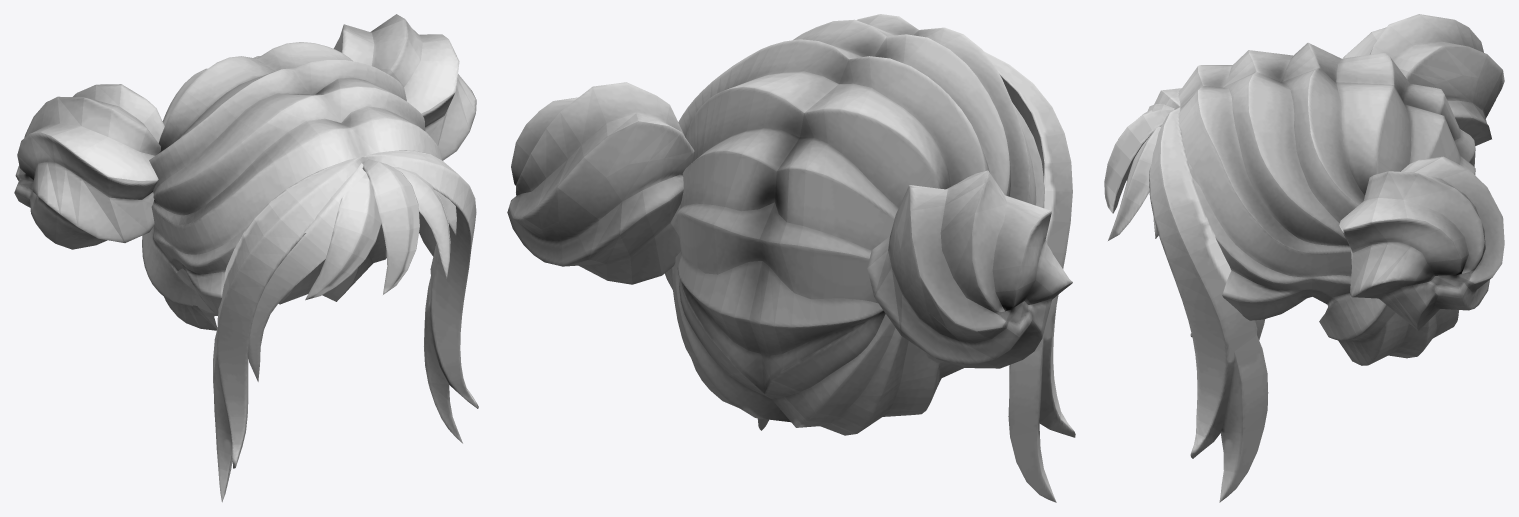
Rendered from hair-buns.glb.
3 views of the same model, side by side, from view 1: azimuth 30°, elevation 25°; view 2: azimuth 150°, elevation 25°; view 3: azimuth 270°, elevation 25° (orthographic). The views are drawn at different scales.
Parts seen in each view (by area): view 1: hair-buns; view 2: hair-buns; view 3: hair-buns.
Boxes of the visible parts, x1,y1,x2,y2 form: hair-buns: (14, 14, 478, 502); hair-buns: (507, 14, 1075, 502); hair-buns: (1104, 14, 1504, 502).
Size of the model in its own units: 0.3015 by 0.2482 by 0.237.
Materials: 1 (1 with a texture image).
